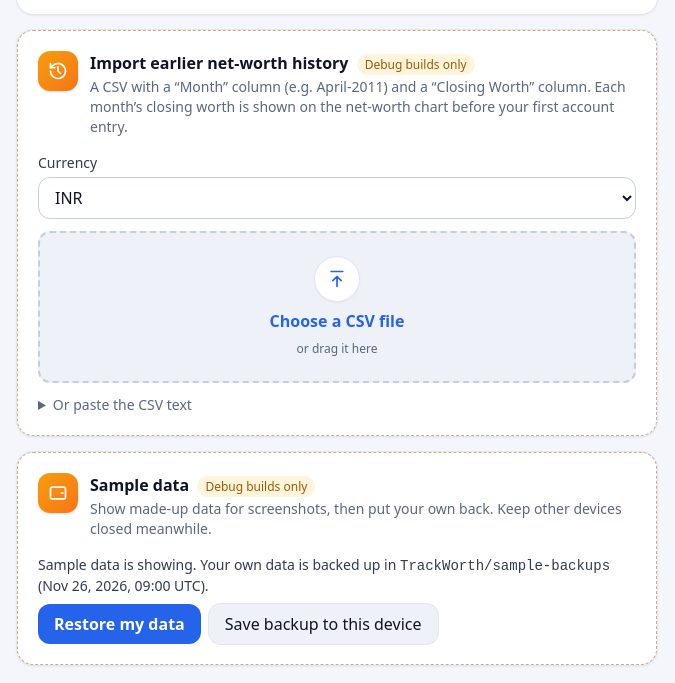
Test: SampleDataSection (development builds) › keeps the backup if the restored data couldn’t be uploaded
The image size is (675, 683).
(page scrolled)
Click the button "Restore my data". click: click(119, 624)
box: [38,604,201,644]
(page scrolled)
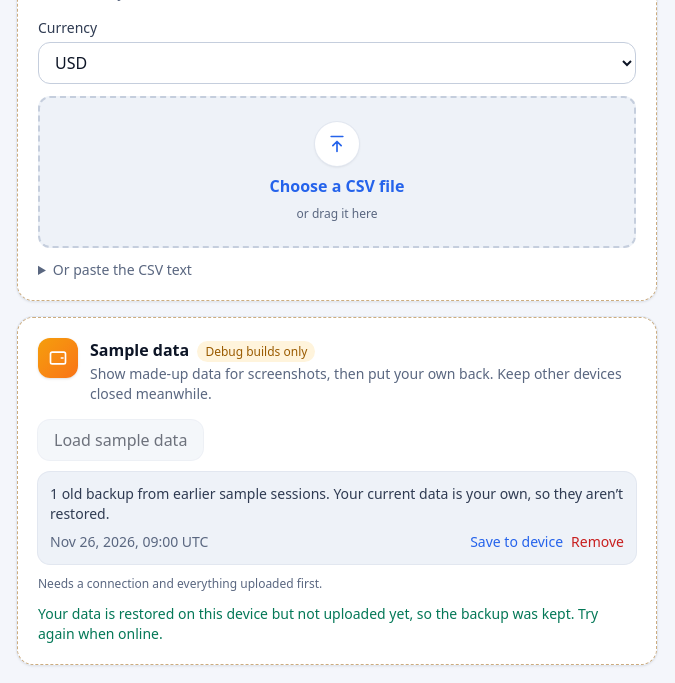
Expected: the message shows "backup was kept", [38,604,598,643]
